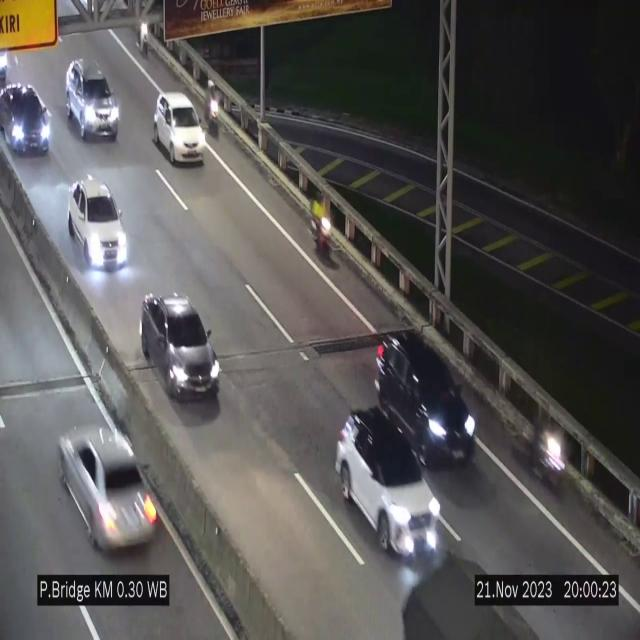Car: (336, 409, 444, 557), (55, 401, 155, 555), (376, 331, 482, 472), (141, 293, 220, 403), (68, 175, 130, 274), (65, 58, 120, 140), (0, 78, 55, 156), (153, 92, 206, 163)
Motorcycle: (528, 400, 570, 507), (306, 182, 338, 275), (205, 76, 221, 140), (132, 6, 152, 54)
